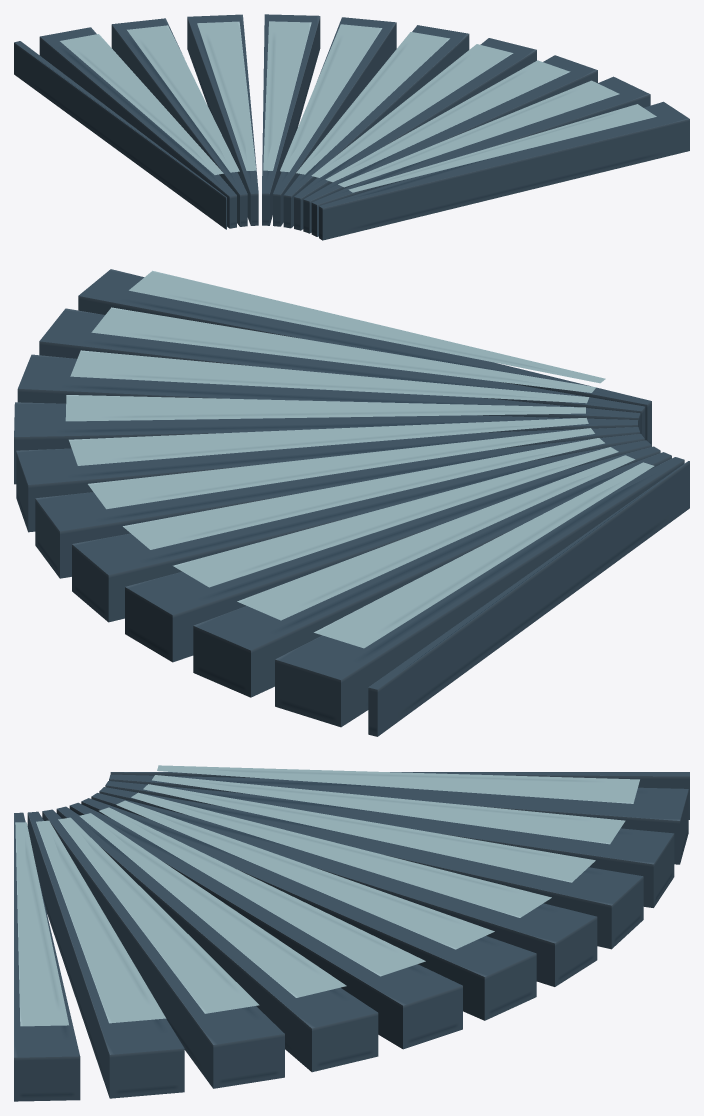
Rendered from sc_tread_curve_left_9.obj.
3 renders of one model, top to bottom at view 1: azimuth 30°, elevation 25°; view 2: azimuth 150°, elevation 25°; view 3: azimuth 270°, elevation 25°, orthographic. The views are drawn at different scales.
Bounding box in the file's own units: 17.5 × 1.56 × 17.5.
1 material, 1 textured.
